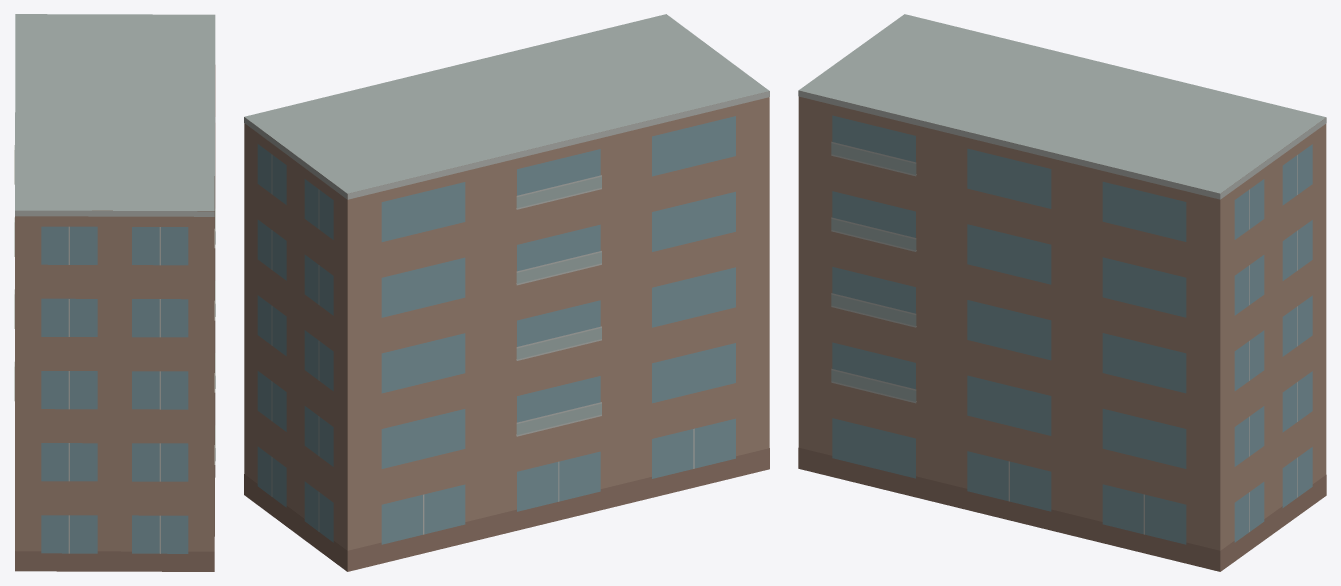
The model's file is survey-upis-32732463.glb.
The picture shows the model from 3 angles, left to right: view 1: azimuth 30°, elevation 25°; view 2: azimuth 150°, elevation 25°; view 3: azimuth 270°, elevation 25°; orthographic projection. The views are drawn at different scales.
Visible parts, largest first — view 1: survey-upis-32732463.tmp; view 2: survey-upis-32732463.tmp; view 3: survey-upis-32732463.tmp.
Part boxes in pixels (bbox=[...]): survey-upis-32732463.tmp: bbox=[14, 14, 215, 571]; survey-upis-32732463.tmp: bbox=[244, 14, 769, 571]; survey-upis-32732463.tmp: bbox=[798, 14, 1326, 571].
Size of the model in its own units: 15.54 by 15.25 by 19.3.
